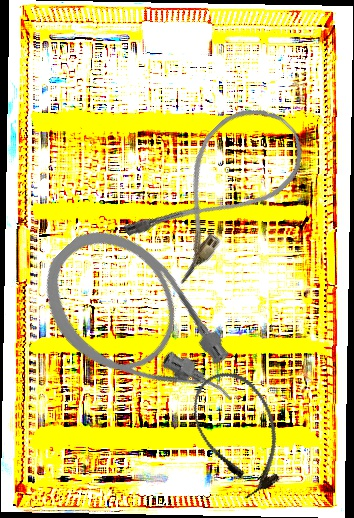Cannula: (19, 205, 263, 455), (117, 88, 320, 290), (180, 360, 299, 506)
